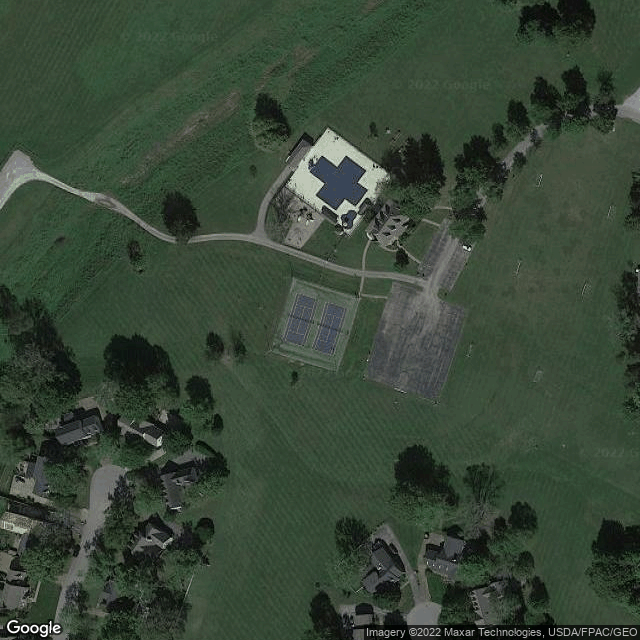Court: (309, 301, 347, 355), (282, 292, 315, 347)
